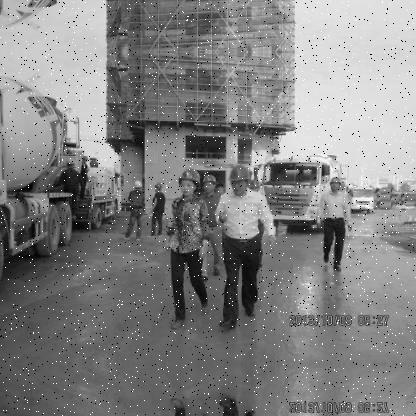Helmet: (233, 166, 252, 194), (180, 169, 198, 190), (328, 175, 345, 195), (250, 176, 266, 193), (202, 176, 216, 193), (132, 177, 146, 194), (154, 177, 166, 192)
